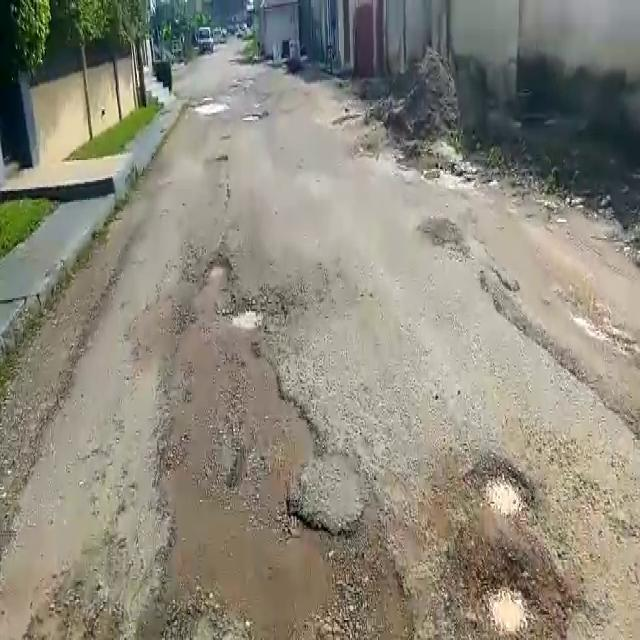pothole: (453, 540, 564, 640), (469, 458, 536, 524), (230, 306, 265, 332), (203, 257, 230, 280)
